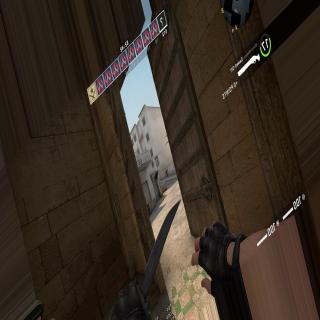CT-Body: (166, 169, 168, 176)
CT-Head: (38, 299, 45, 320), (166, 170, 167, 170)
